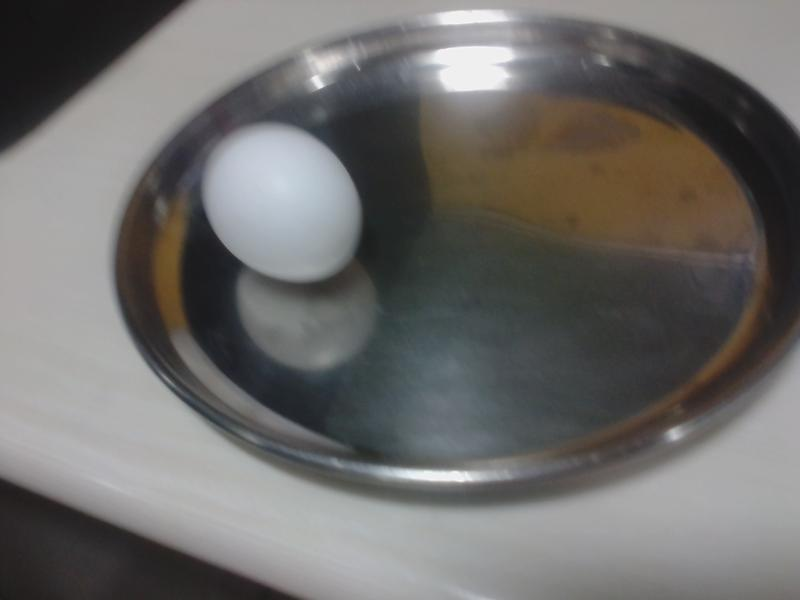egg: (197, 116, 362, 283)
